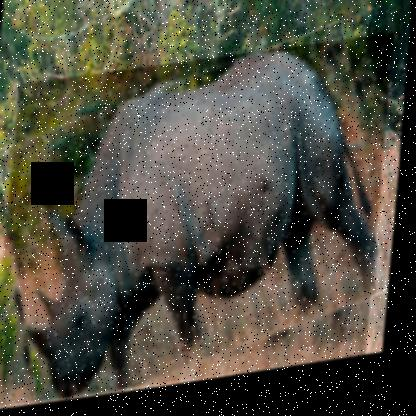Diceros bicornis: (0, 38, 397, 413)
